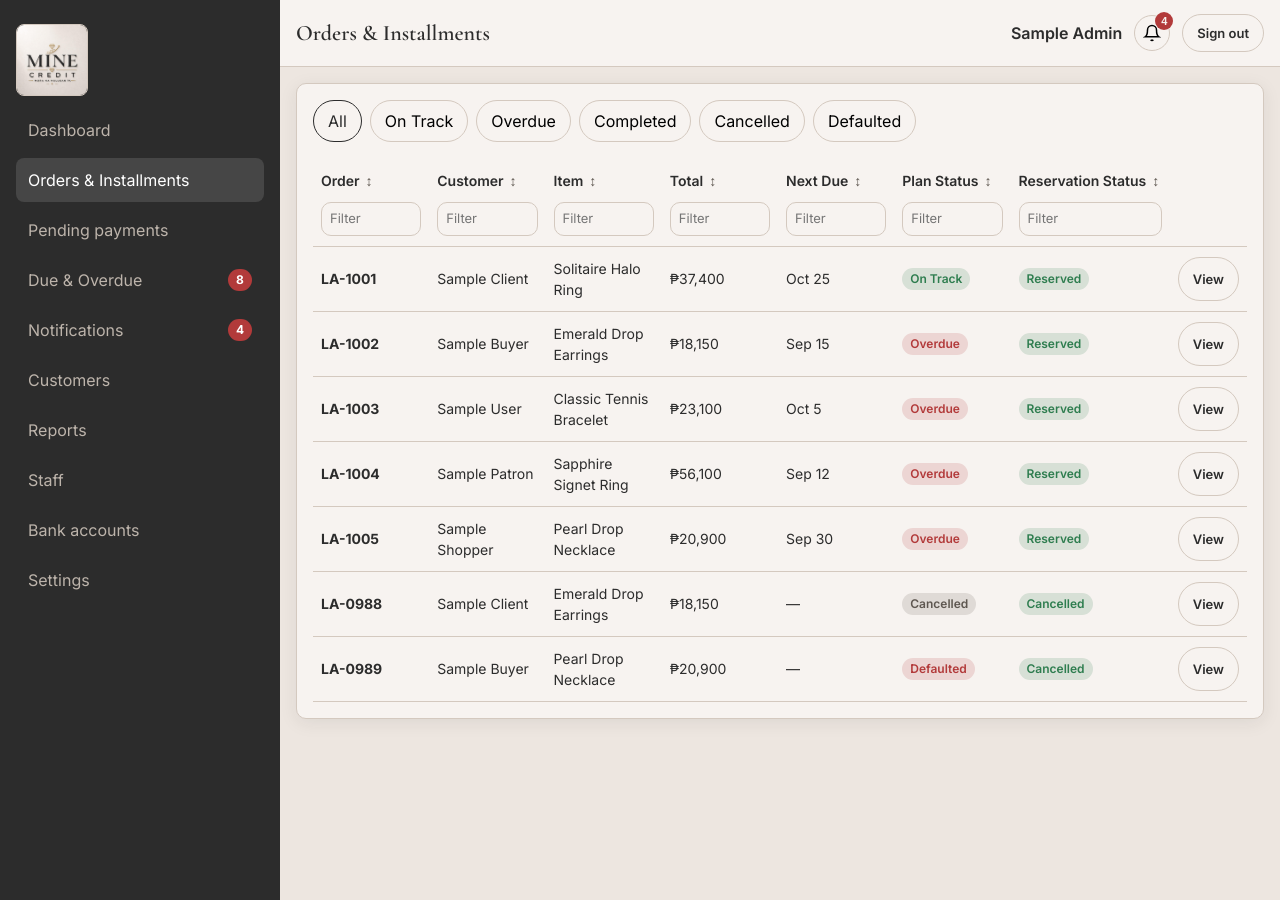
Test: admin orders › offers a filter per plan status
Expected: the text "LA-1001" is shown, [321,270,376,287]
Expected: the button with aria-label "Show All orders" is shown, [313,100,362,142]
Click the button with aria-label "Show Defaulted orders": (865, 121) [813,100,916,142]
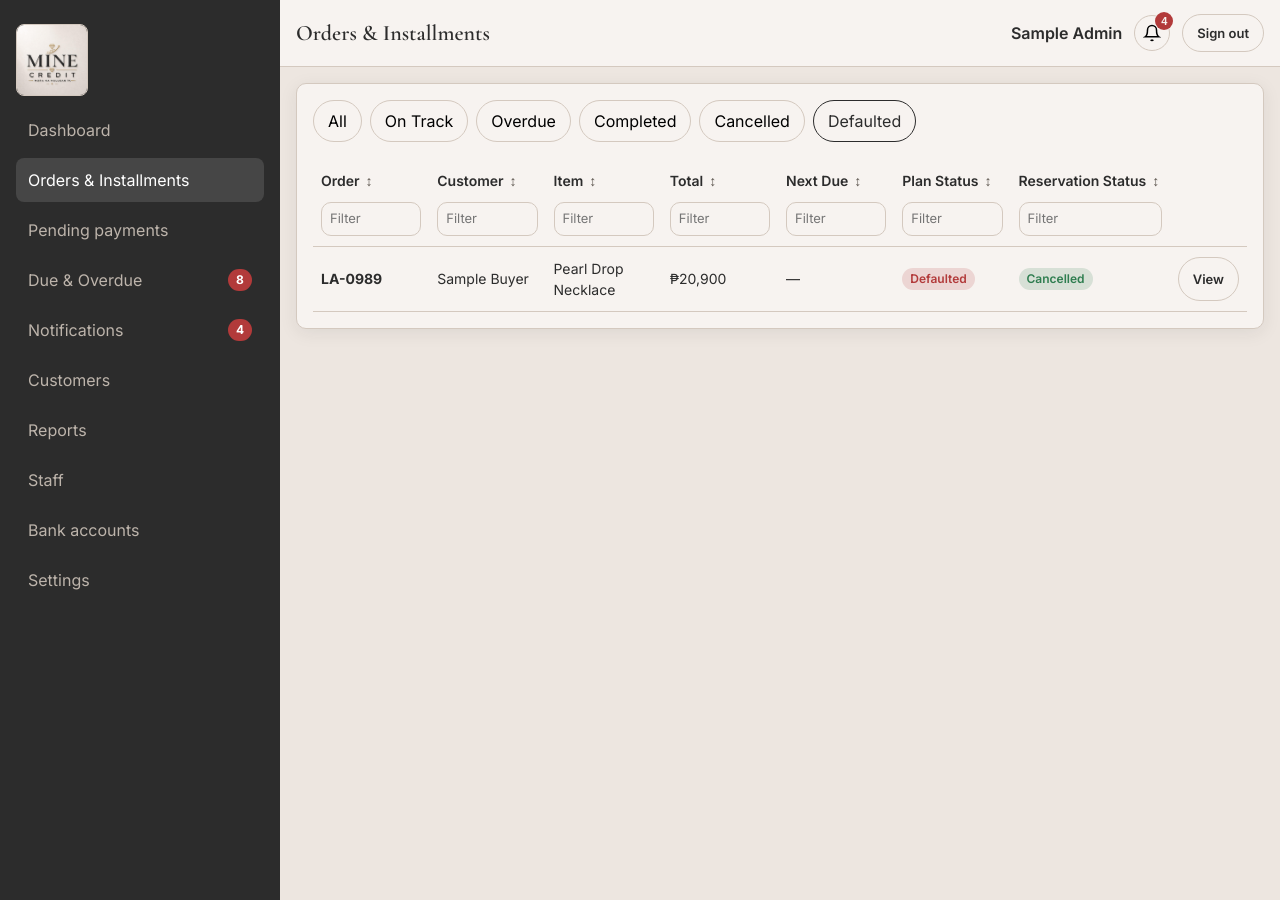
Now the text "LA-1001" is gone
